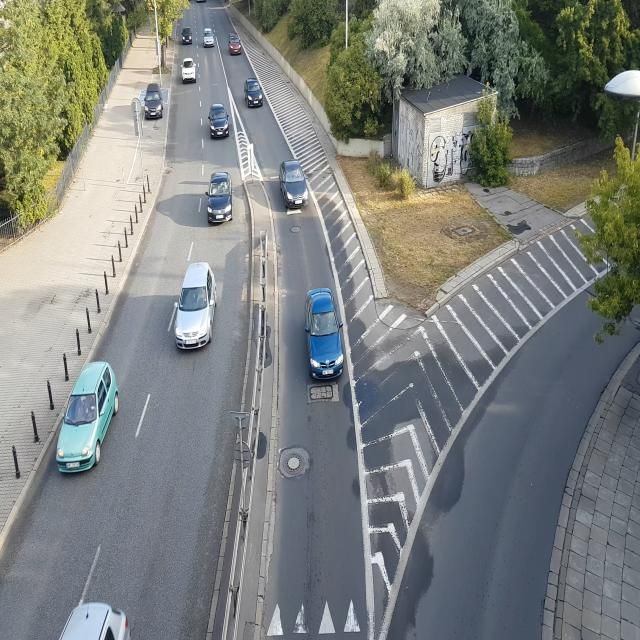car: (52, 362, 120, 475), (296, 283, 356, 392), (174, 260, 223, 350), (55, 593, 135, 640), (207, 171, 235, 226), (279, 162, 308, 212), (208, 104, 229, 140), (144, 86, 165, 119), (246, 77, 264, 107), (182, 59, 198, 81), (228, 33, 242, 55), (202, 28, 215, 47), (182, 28, 194, 43)
